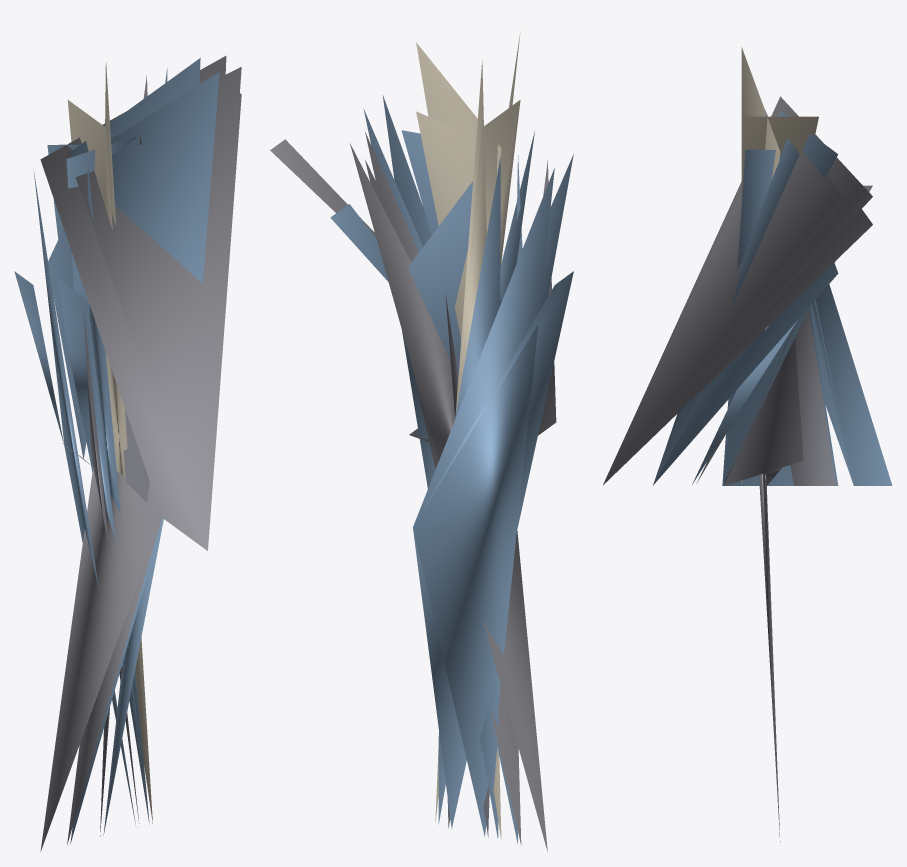
File: player_mine.glb
The picture shows the model from 3 angles, left to right: view 1: azimuth 30°, elevation 25°; view 2: azimuth 150°, elevation 25°; view 3: azimuth 270°, elevation 25°; orthographic projection.
Parts seen in each view (by area): view 1: player_mine; view 2: player_mine; view 3: player_mine.
Boxes of the visible parts, bbox=[...] form: player_mine: bbox=[14, 56, 241, 851]; player_mine: bbox=[270, 33, 573, 851]; player_mine: bbox=[603, 47, 892, 842].
Size of the model in its own units: 0.75 by 2.3 by 0.75.
